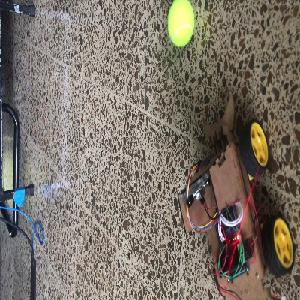Ball: (167, 0, 194, 46)
Robot: (178, 92, 295, 298)
